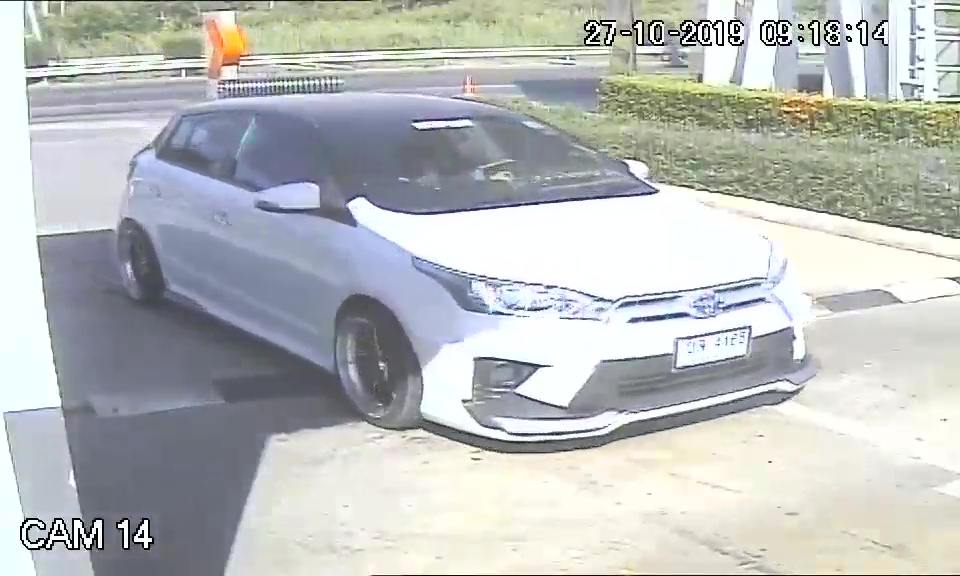sedan: (106, 89, 822, 459)
